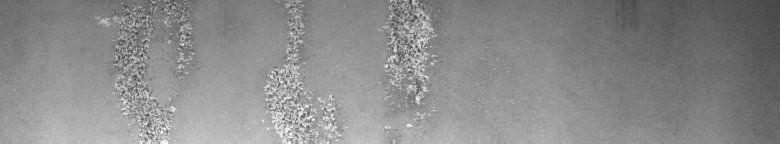hc: (96, 4, 194, 136)
